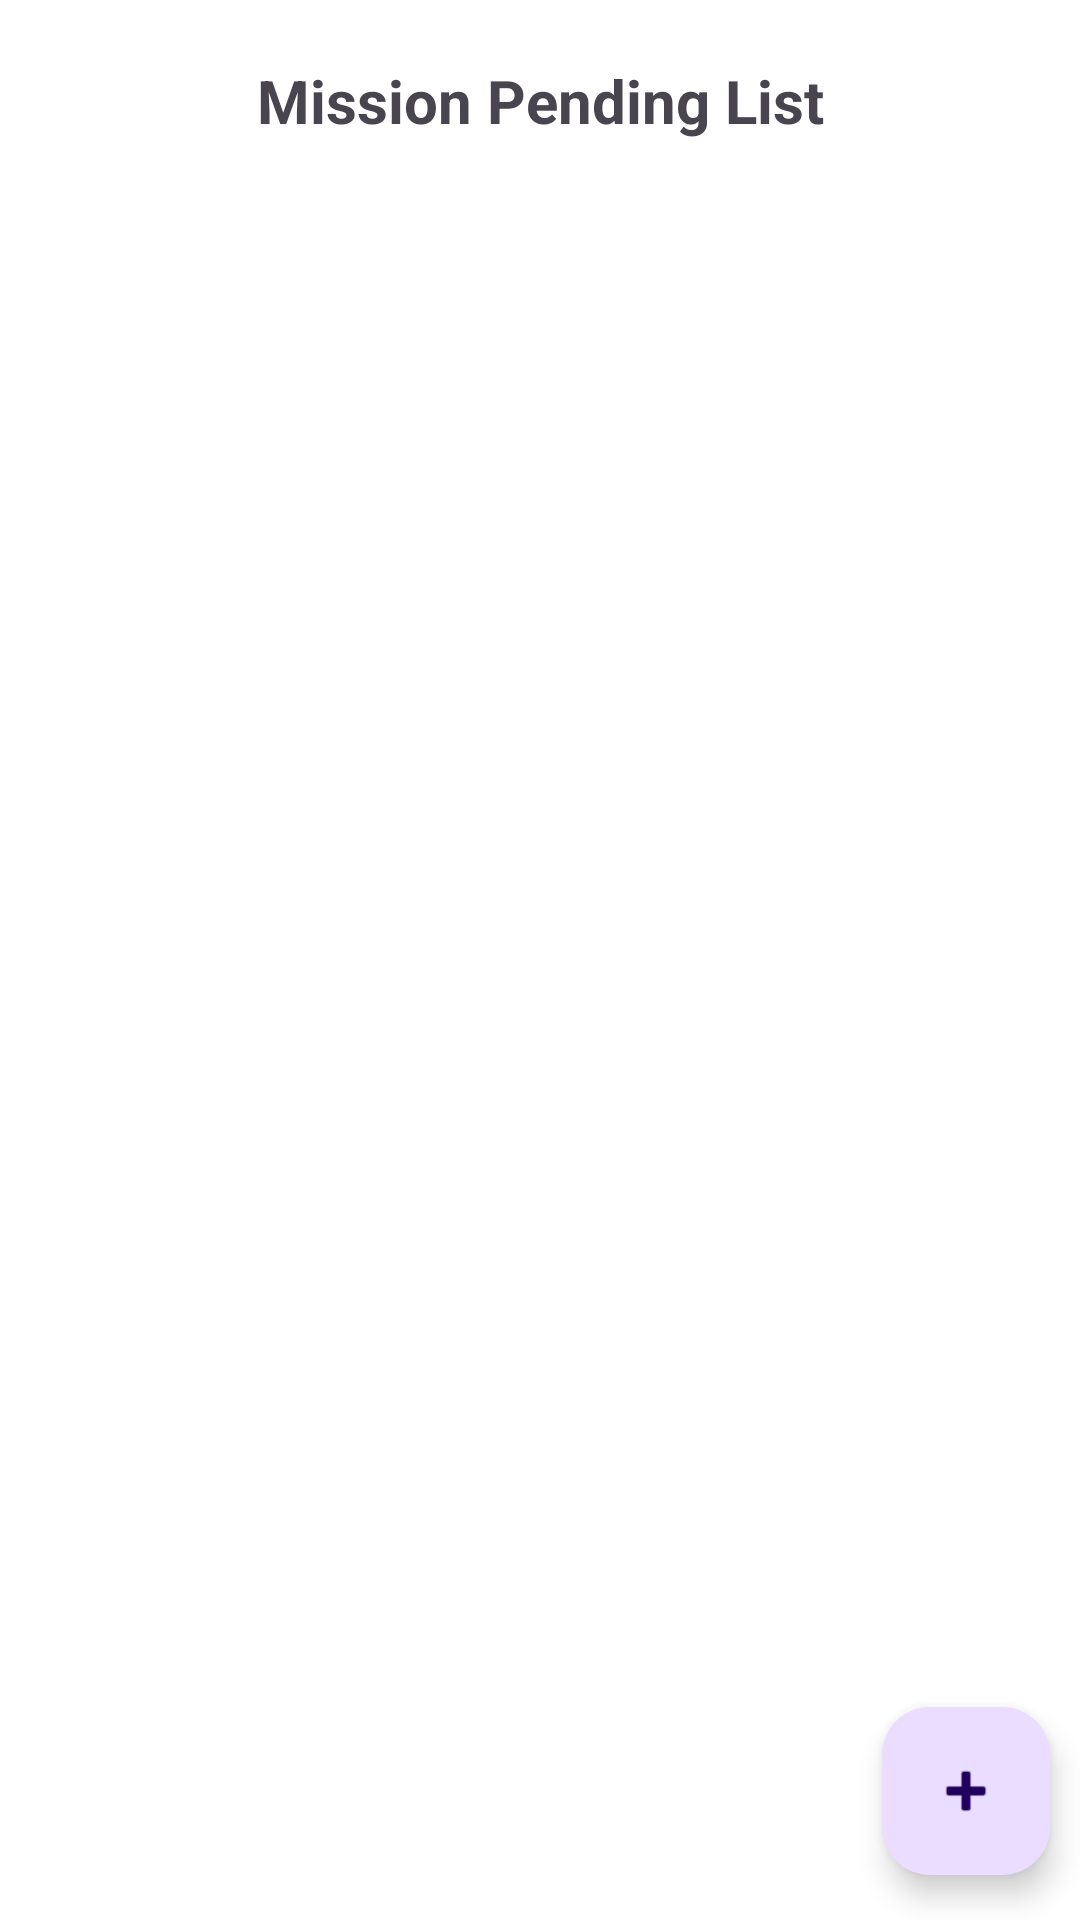

Point at icon controls on the screen. Image size 1080px x 1920px, points as point (x, y).
add: point (966, 1791)
